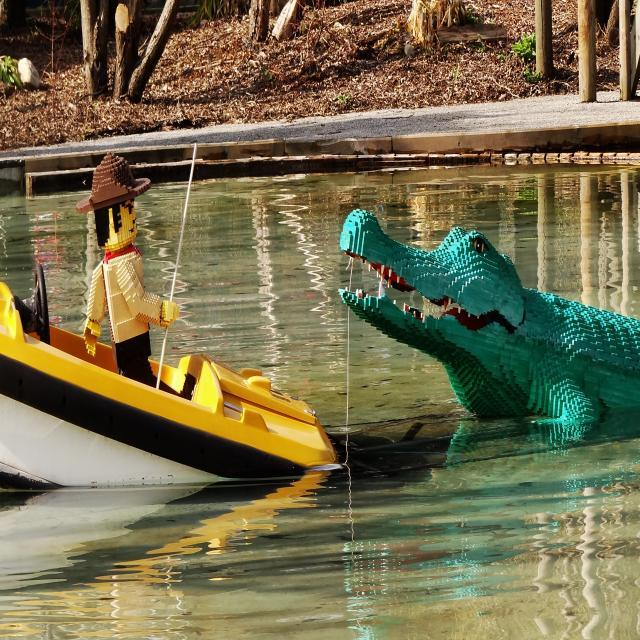crocodile: (347, 207, 639, 445)
